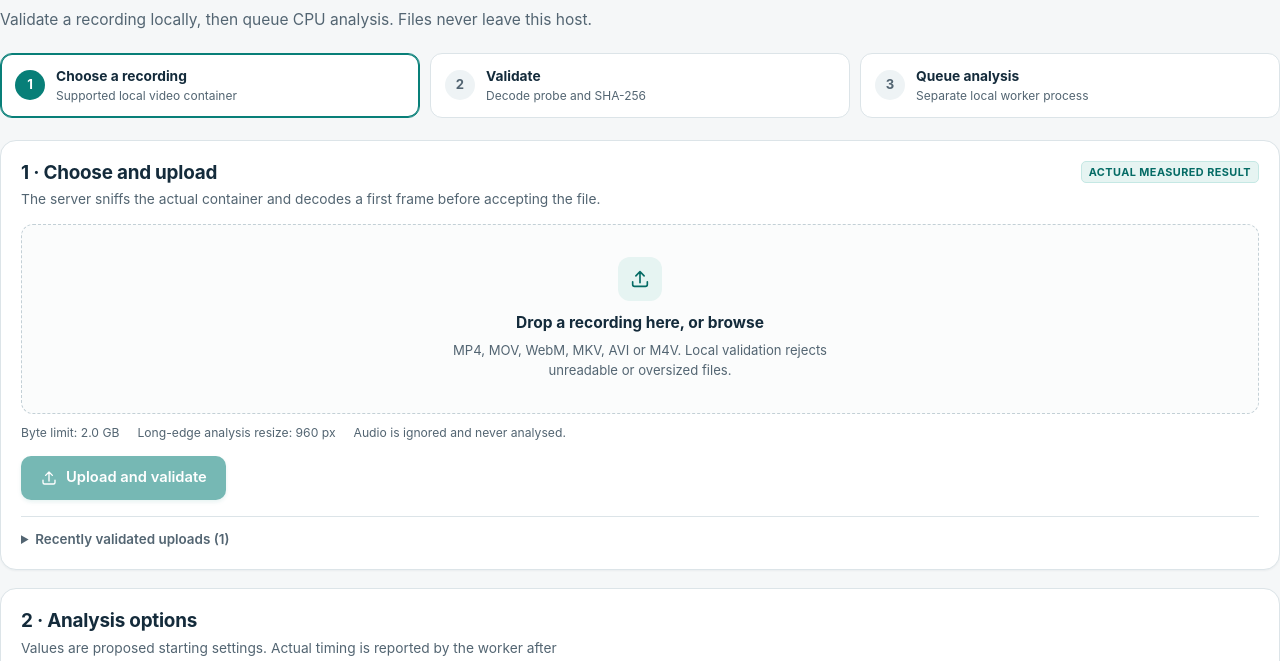
Scenario: UploadPage › reuses a previously validated upload without re-uploading it
Click the heading "Recently validated uploads (1)" at (132, 539), box [35,531,229,547]
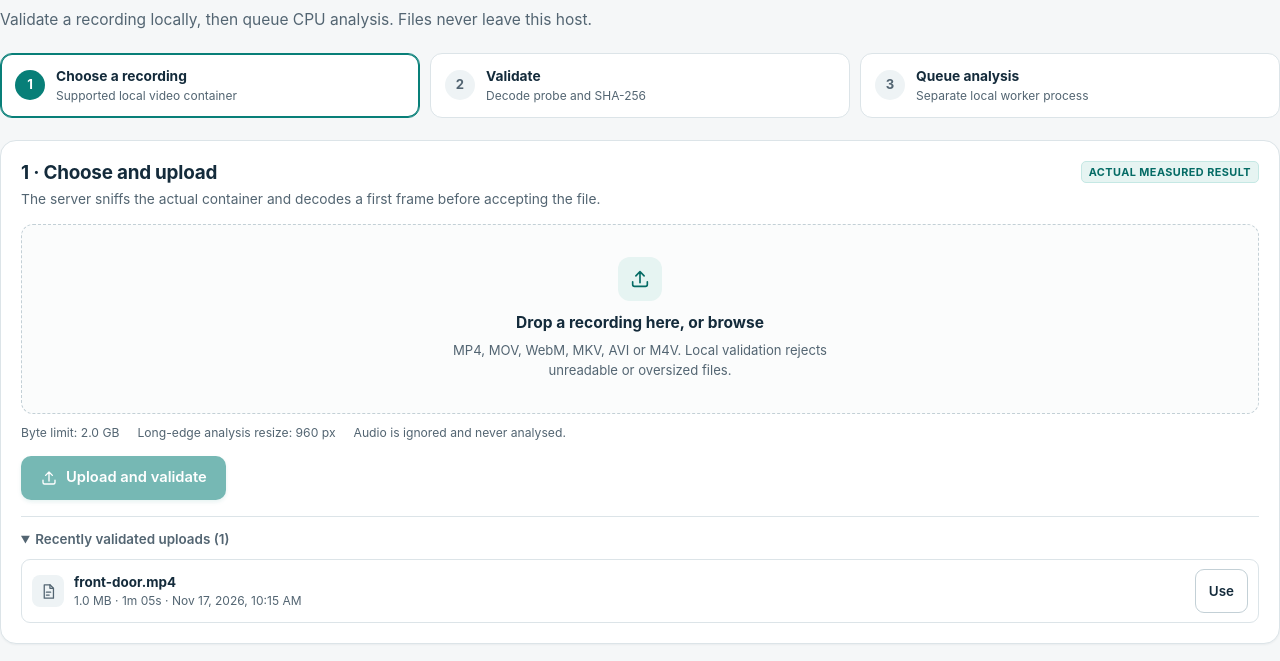
Click the button "Use" at (1221, 591), box [1195,569,1248,613]
(page scrolled)
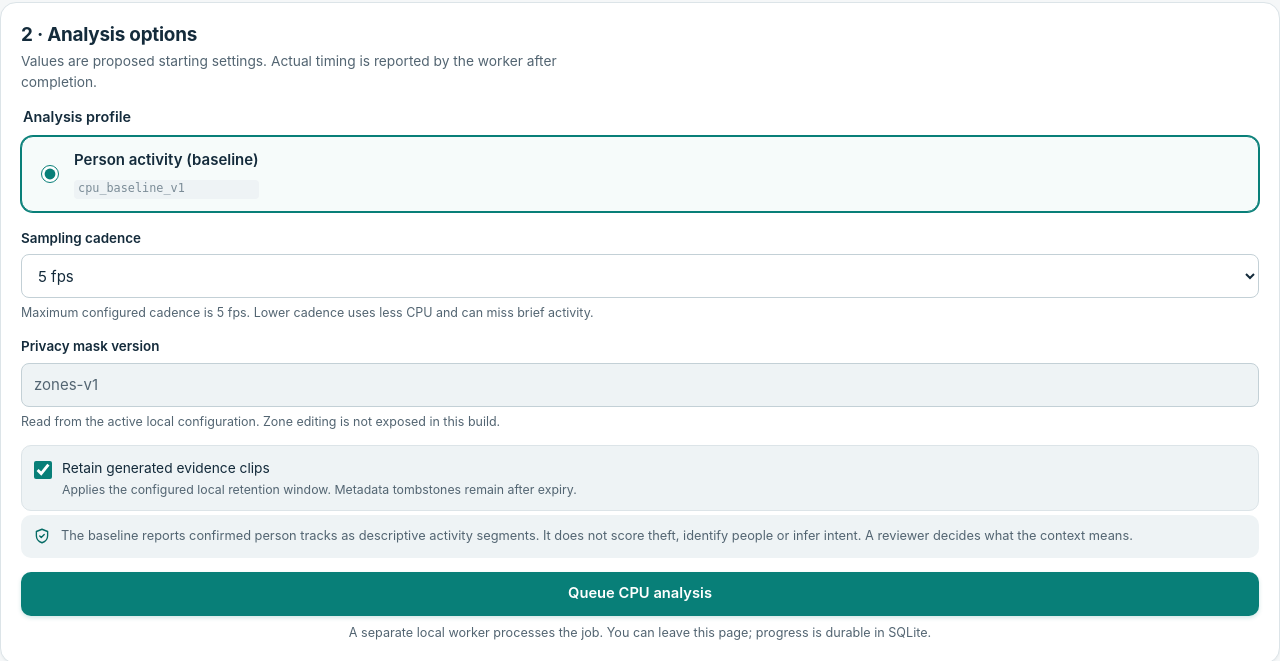
Check: the button "Queue CPU analysis" is enabled, box [21,572,1259,616]
Check: the text "reports confirmed person tracks as descriptive activity segments" is shown, box [61,528,1133,543]
